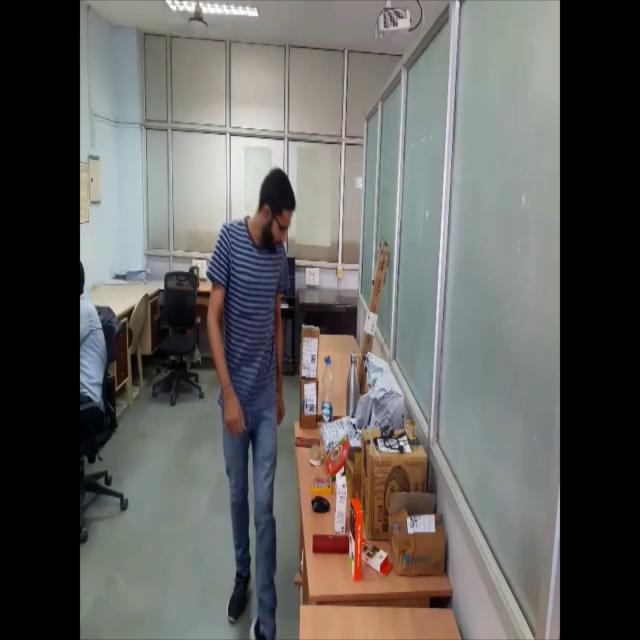normal: (206, 150, 296, 640)
